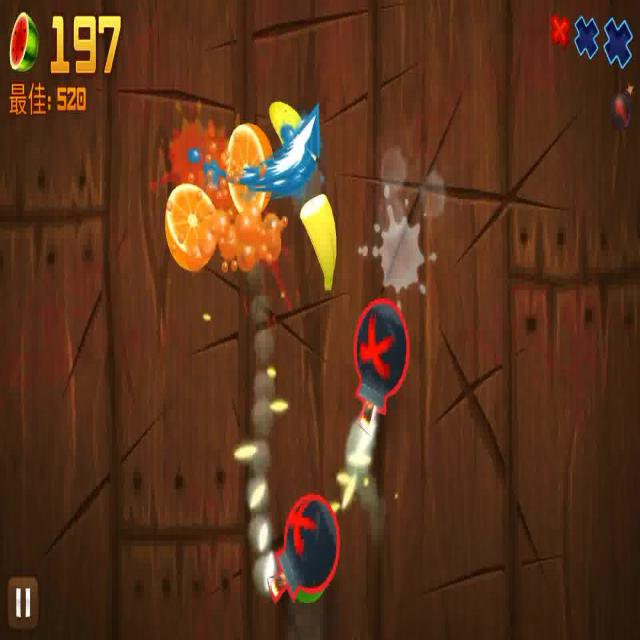bomb: (352, 288, 416, 463), (267, 493, 348, 604)
fruit: (162, 174, 219, 278), (292, 200, 346, 301), (224, 126, 277, 220), (269, 90, 311, 184)
